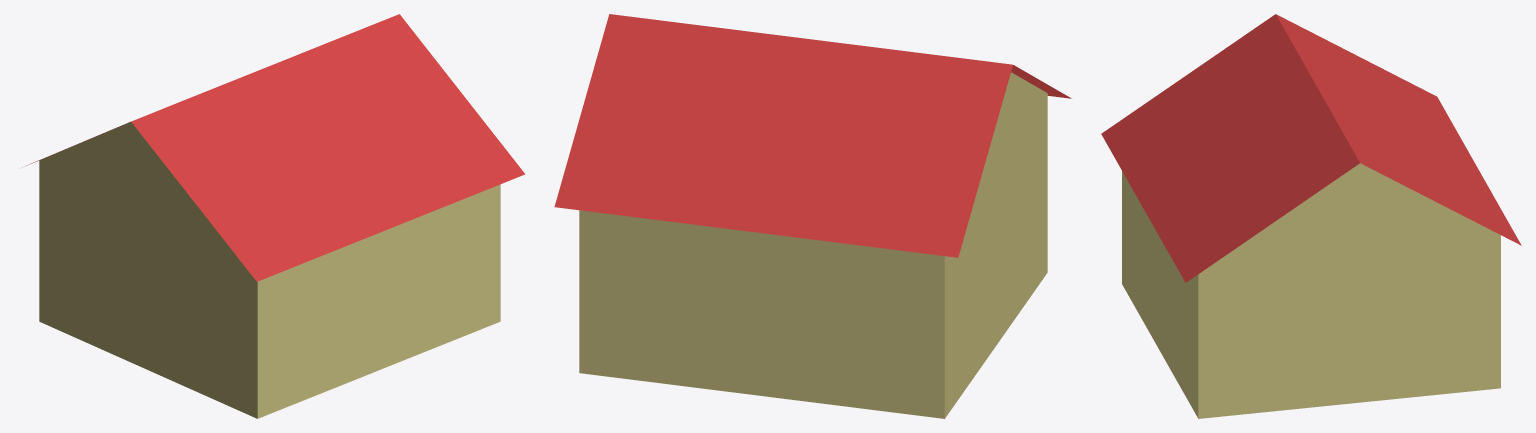
The picture shows the model from 3 angles, left to right: view 1: azimuth 30°, elevation 25°; view 2: azimuth 150°, elevation 25°; view 3: azimuth 270°, elevation 25°; orthographic projection. The views are drawn at different scales.
Bounding box in the file's own units: 18.82 × 18.27 × 11.83.
